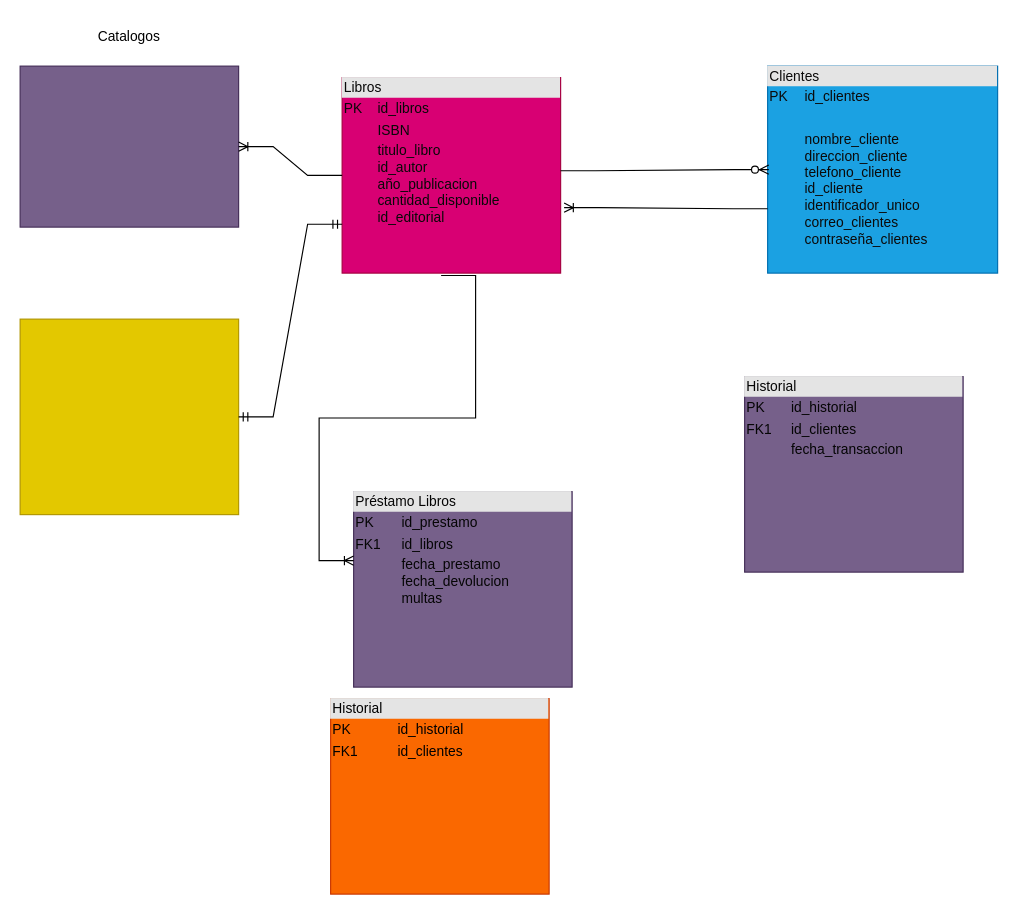
The diagram is 1018 pixels wide and 914 high, and some of its shapes have lost their labels. Here are the shapes that lost their labels. From the top down, the centre of each, then its label:
At point 129,146: "autor PK id_autor".
At point 129,416: "editorial PK id_editorial".
